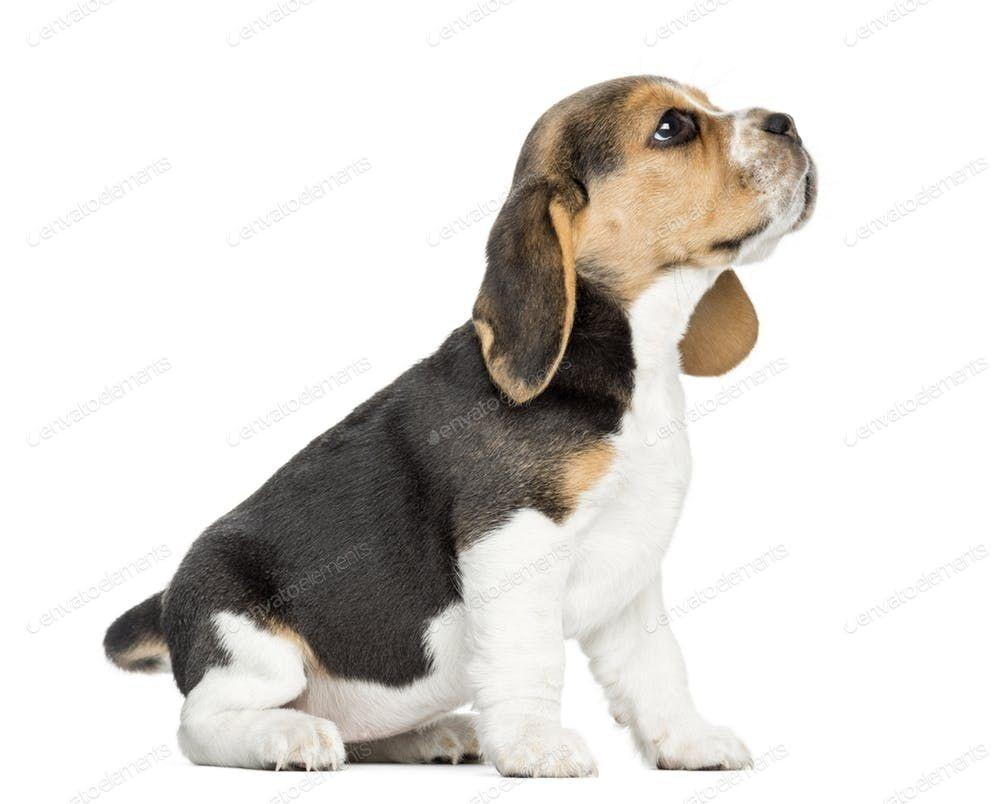puppy-dog: (107, 72, 821, 781)
